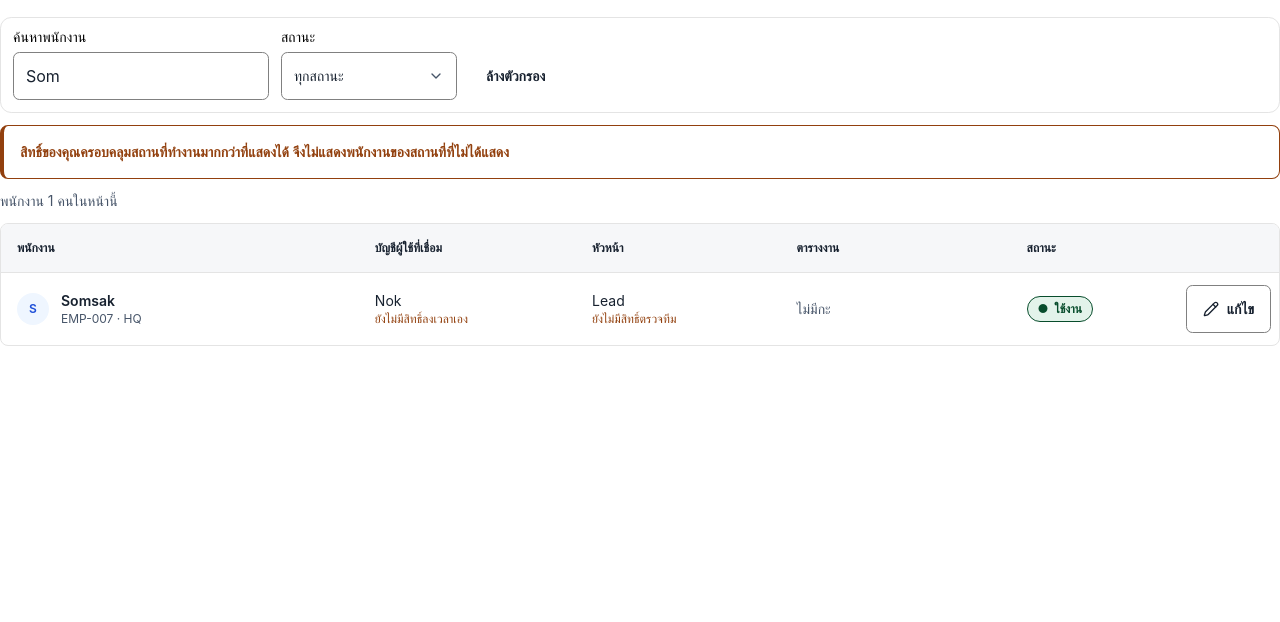
Test: successful employee save closes the editor with a th receipt and HR access handoff, then the next Back returns to the caller
Expected: the text "ยังไม่มีสิทธิ์ลงเวลาเอง" is shown, [375,310,468,326]
Expected: the text "ยังไม่มีสิทธิ์ตรวจทีม" is shown, [592,310,676,326]
Click the button "แก้ไข": x=1228, y=308 [1186,284,1271,332]
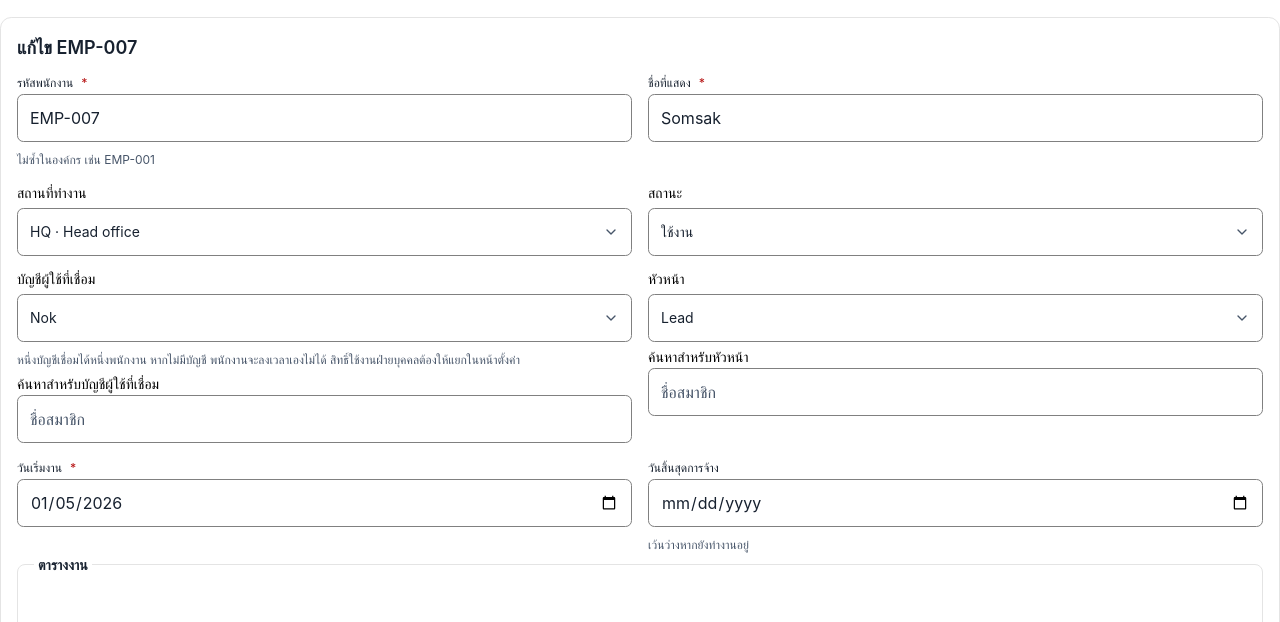
Replace the text in the field labelled "ชื่อที่แสดง" with "Somsak K.": x=956, y=118 [648,94,1263,142]
(page scrolled)
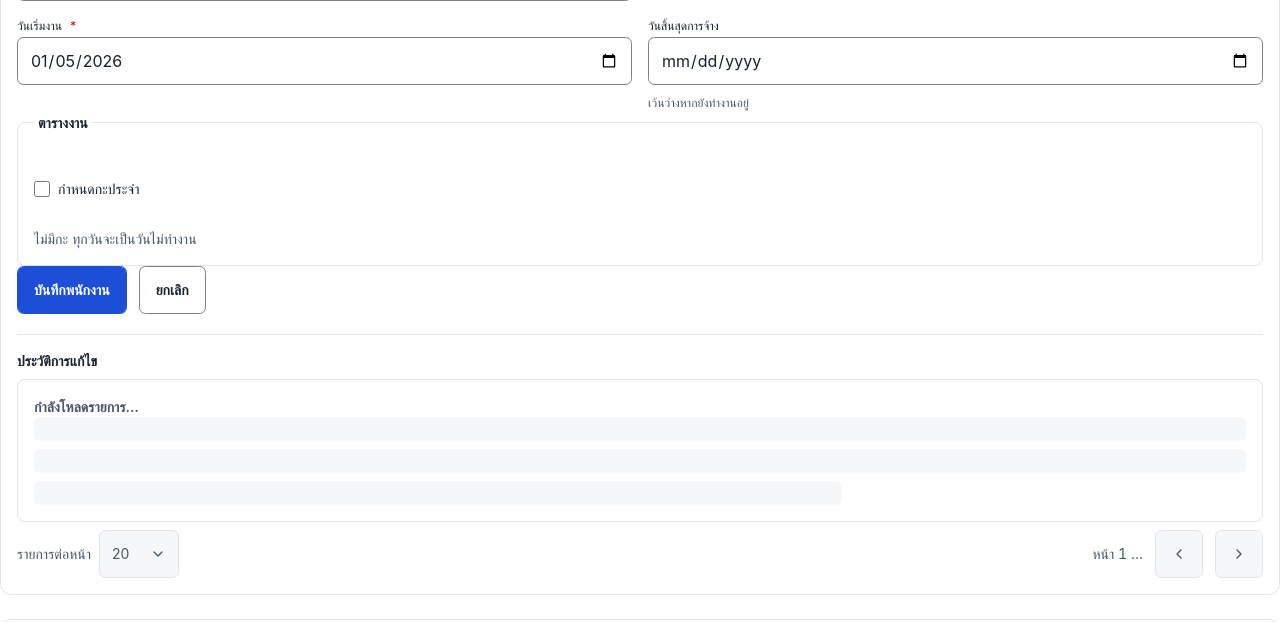
Click the button "บันทึกพนักงาน": x=72, y=290 [17,266,127,314]
(page scrolled)
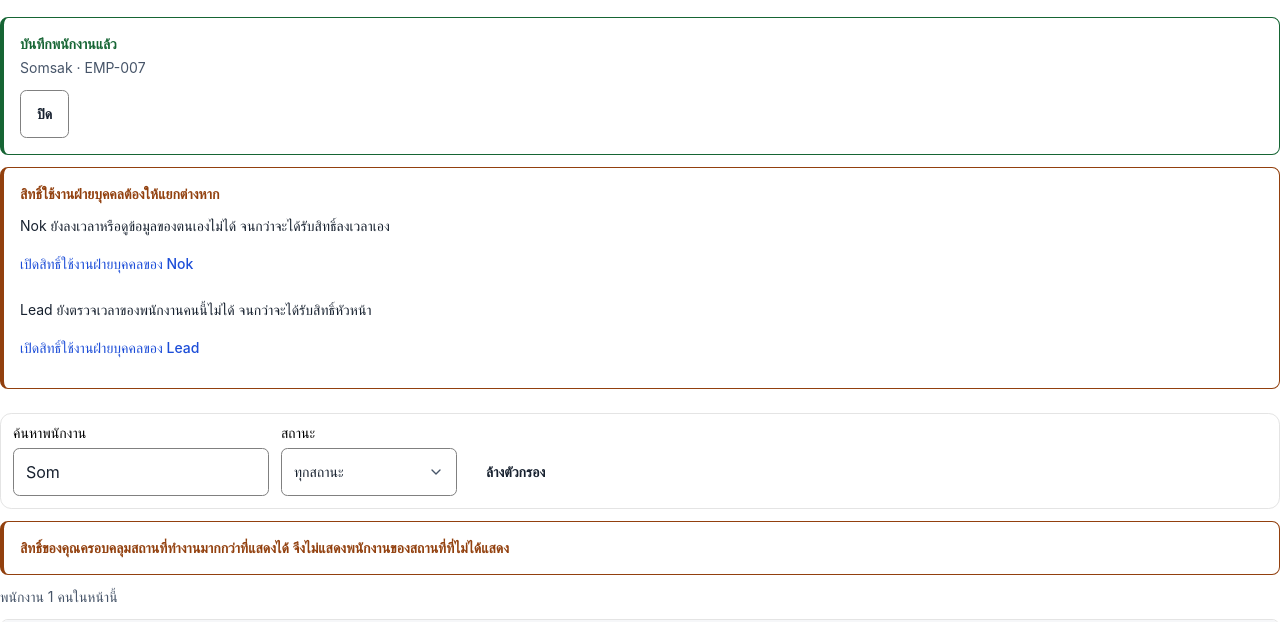
Now the element with test id "hr-employee-saved" shows "บันทึกพนักงานแล้ว", box [20,35,117,52]
Now the element with test id "hr-employee-saved" shows "Somsak · EMP-007", box [20,59,146,76]
